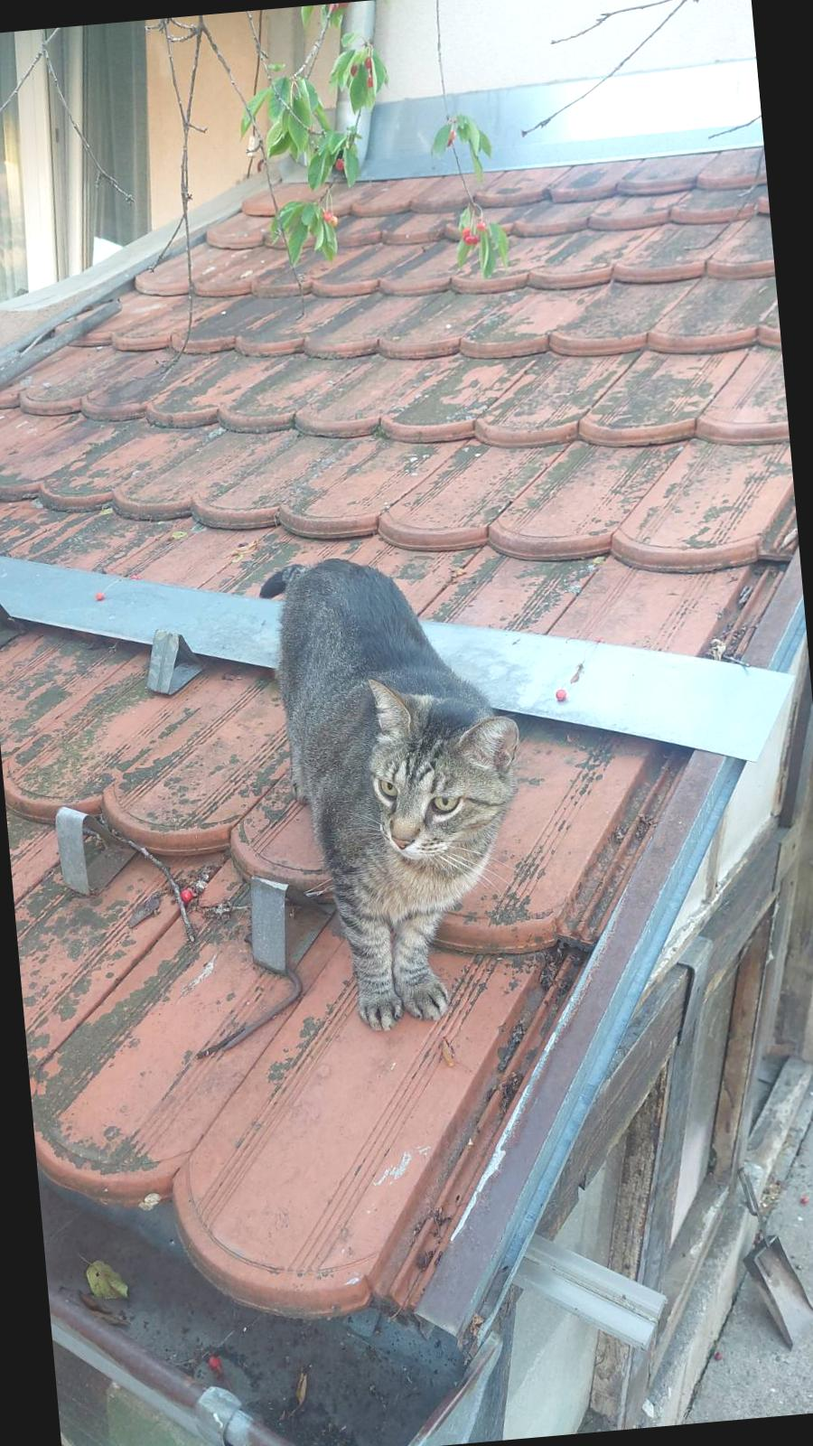macka: (258, 547, 538, 1039)
